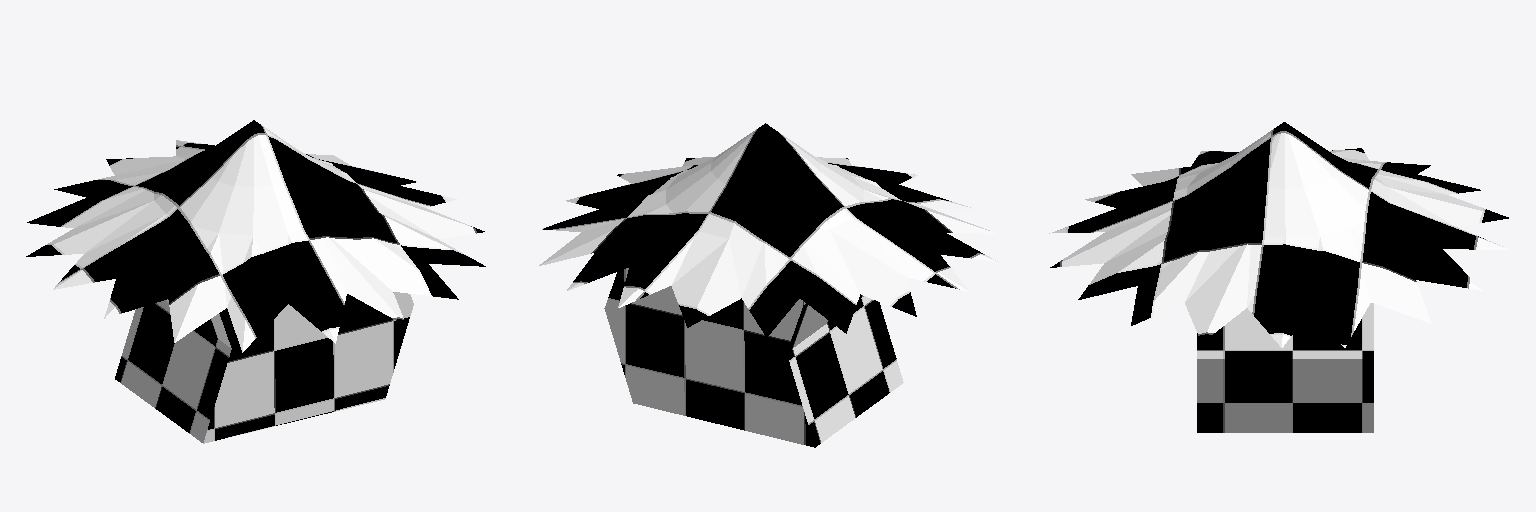
3 renders of one model, left to right at view 1: azimuth 30°, elevation 25°; view 2: azimuth 150°, elevation 25°; view 3: azimuth 270°, elevation 25°, orthographic.
Parts seen in each view (by area): view 1: Box001; view 2: Box001; view 3: Box001.
Boxes of the visible parts, x1=… form: Box001: x1=26, y1=120, x2=485, y2=443; Box001: x1=539, y1=123, x2=997, y2=447; Box001: x1=1049, y1=122, x2=1509, y2=432.
Size of the model in its own units: 337 by 214 by 332.
Materials: 1 (1 with a texture image).